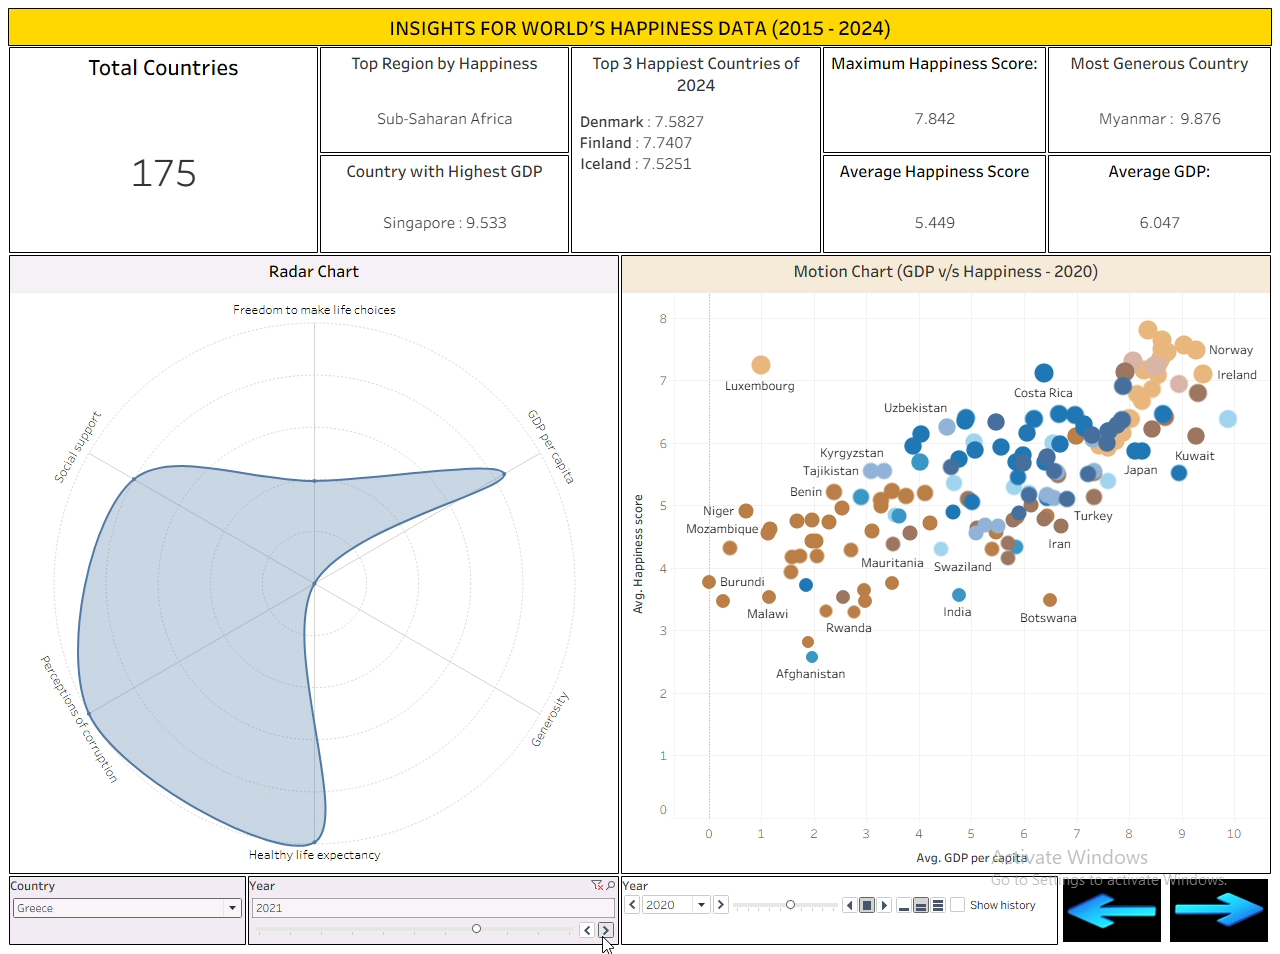

What the dashboard file says about the page in this screenshot:
{"tool":"tableau","page":{"name":"Dashboard 2","canvas":[1000,1000],"units":"permille","ordinal":1},"visuals":[{"type":"text","box":[6.2,8.4,987.5,40.2]},{"type":"image","param":"Image/happiness 1.png","box":[223.6,12.5,27.1,33.8]},{"type":"image","param":"Image/happiness 1.png","box":[749.3,12.5,27.1,33.8]},{"type":"worksheet","title":"Total Countries","mark":"Automatic","box":[6.2,48.6,242.8,217.5]},{"type":"worksheet","title":"Top Region by Happiness","mark":"Automatic","box":[249.1,48.6,196.5,113.2]},{"type":"worksheet","title":"Top 3 Happiest Countries of 2024","mark":"Text","box":[445.6,48.6,196.5,217.5]},{"type":"worksheet","title":"Maximum Happiness Score","mark":"Automatic","box":[642,48.6,175.8,113.2]},{"type":"worksheet","title":"Most Generous Country","mark":"Automatic","box":[817.9,48.6,175.9,113.2]},{"type":"worksheet","title":"Country with Highest GDP","mark":"Automatic","box":[249.1,161.7,196.5,104.3]},{"type":"worksheet","title":"Average Happiness Score","mark":"Automatic","box":[642,161.7,175.8,104.3]},{"type":"worksheet","title":"Average GDP","mark":"Automatic","box":[817.9,161.7,175.9,104.3]},{"type":"worksheet","title":"Radar Chart","box":[6.2,266.1,478.2,651.3]},{"type":"worksheet","title":"Motion Chart (GDP v/s Happiness","mark":"Circle","rows":["Happiness score"],"cols":["GDP per capita"],"box":[484.5,266.1,509.3,651.3]},{"type":"filter","title":"Radar Chart","param":"[federated.0bmoz6j1ncyzlt1dp10531xplwxu (copy)].[none:Country:nk]","box":[6.2,917.4,186.6,74.2]},{"type":"filter","title":"Radar Chart","param":"[federated.0bmoz6j1ncyzlt1dp10531xplwxu (copy)].[none:Year:ok]","box":[192.8,917.4,291.7,74.2]},{"type":"currpage","title":"Motion Chart (GDP v/s Happiness","box":[484.5,917.4,343.2,74.2]},{"type":"dashboard-object","box":[827.7,917.4,83,74.2]},{"type":"dashboard-object","box":[910.7,917.4,83,74.2]}]}

Visuals, with their boxes on the dashboard's canvas, which has no fixed pixel size, in thousandths of its width and height (x1, y1, x2, y2). These are canvas units, not pixel positions in the 1280x954 screenshot, which may show the page scaled, cropped or inside an application window:
text: [6,8,994,49]
image: [224,12,251,46]
image: [749,12,776,46]
"Total Countries" worksheet: [6,49,249,266]
"Top Region by Happiness" worksheet: [249,49,446,162]
"Top 3 Happiest Countries of 2024" worksheet (Text marks): [446,49,642,266]
"Maximum Happiness Score" worksheet: [642,49,818,162]
"Most Generous Country" worksheet: [818,49,994,162]
"Country with Highest GDP" worksheet: [249,162,446,266]
"Average Happiness Score" worksheet: [642,162,818,266]
"Average GDP" worksheet: [818,162,994,266]
"Radar Chart" worksheet: [6,266,484,917]
"Motion Chart (GDP v/s Happiness" worksheet (Circle marks): [484,266,994,917]
"Radar Chart" filter: [6,917,193,992]
"Radar Chart" filter: [193,917,484,992]
"Motion Chart (GDP v/s Happiness" currpage: [484,917,828,992]
dashboard-object: [828,917,911,992]
dashboard-object: [911,917,994,992]
